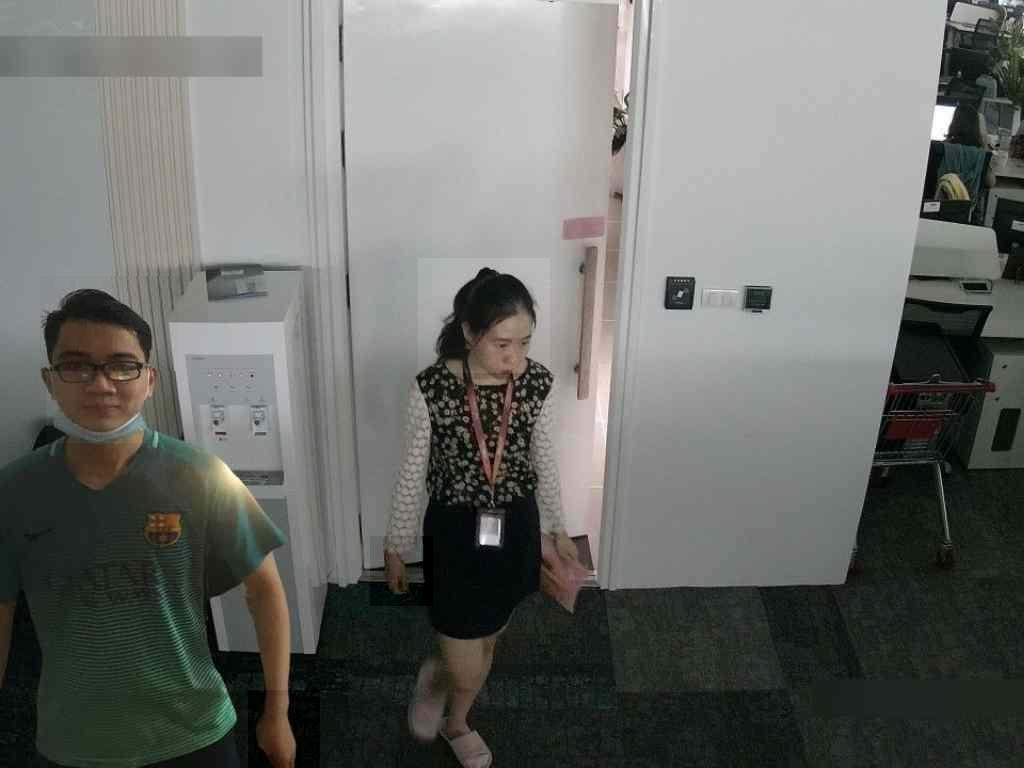no_apron: (248, 690, 320, 768), (371, 536, 434, 606)
no_gloves: (418, 258, 550, 373), (40, 276, 178, 371)
no_hairnet: (46, 320, 153, 443), (473, 295, 534, 379)
